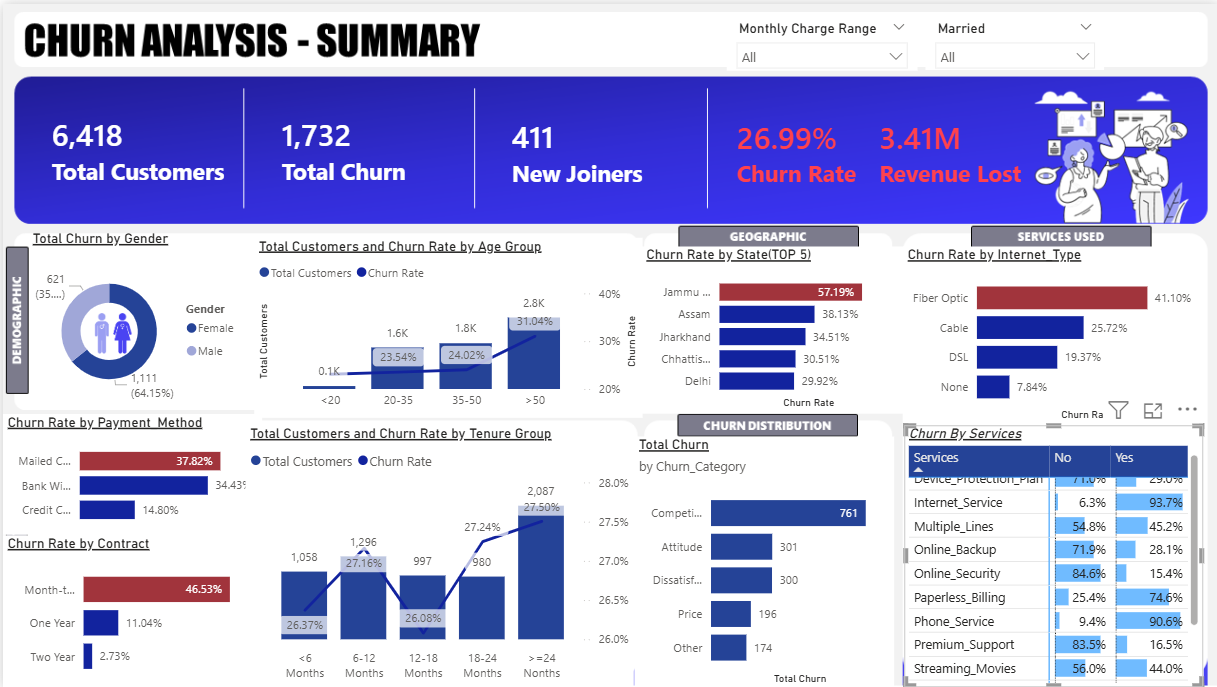

The page's visual inventory and layout, read from the dashboard file:
{"tool":"powerbi","page":{"name":"Summary","canvas":[1280,720],"ordinal":0},"visuals":[{"type":"image","box":[88,249.1,55.8,194.6],"z":0},{"type":"cardVisual","fields":{"Data":["tbl_Measures.Total Customers"]},"box":[21.8,77.6,242.2,152.4],"z":1000},{"type":"cardVisual","fields":{"Data":["tbl_Measures.New Joiners"]},"box":[506.6,80.3,236.8,150],"z":2000},{"type":"cardVisual","fields":{"Data":["tbl_Measures.Total Churn"]},"box":[263.9,77.6,235.4,152.4],"z":3000},{"type":"cardVisual","fields":{"Data":["tbl_Measures.Churn Rate"]},"box":[743.4,80.3,194.7,151.3],"z":4000},{"type":"donutChart","fields":{"Category":["prod_Churn.Gender"],"Y":["tbl_Measures.Total Churn"]},"box":[25.9,238.7,232.2,196.6],"z":5000},{"type":"lineStackedColumnComboChart","fields":{"Category":["mapping_ageGrp.Age Group"],"Y":["tbl_Measures.Total Customers"],"Y2":["tbl_Measures.Churn Rate"]},"box":[264.2,246.1,409,189.4],"z":6000},{"type":"clusteredBarChart","fields":{"Category":["prod_Churn.Payment_Method"],"Y":["tbl_Measures.Churn Rate"]},"box":[0,431.4,272.9,127.1],"z":7000},{"type":"clusteredBarChart","fields":{"Category":["prod_Churn.Contract"],"Y":["tbl_Measures.Churn Rate"]},"box":[0,558.6,290,161.4],"z":8000},{"type":"lineStackedColumnComboChart","fields":{"Category":["mapping_TenureGrp.Tenure Group"],"Y":["tbl_Measures.Total Customers"],"Y2":["tbl_Measures.Churn Rate"]},"box":[255.8,444,409,276.3],"z":9000},{"type":"clusteredBarChart","title":"Churn Rate by State(TOP 5)","fields":{"Y":["tbl_Measures.Churn Rate"],"Category":["prod_Churn.State"]},"box":[672.9,255.7,275.7,175.7],"z":10000},{"type":"clusteredBarChart","fields":{"Category":["prod_Churn.Churn_Category"],"Y":["tbl_Measures.Total Churn"]},"box":[664.7,454.8,273.9,265.4],"z":11000},{"type":"clusteredBarChart","fields":{"Category":["prod_Churn.Internet_Type"],"Y":["tbl_Measures.Churn Rate"]},"box":[946.9,255.3,314.8,188.4],"z":12000},{"type":"pivotTable","title":"Churn By Services","fields":{"Rows":["prod_services.Services"],"Columns":["prod_services.Status"],"Values":["Sum(prod_services.Churn_status)"]},"box":[948.3,444,314.9,276.3],"z":13000},{"type":"slicer","fields":{"Values":["prod_services.Monthly Charge Status"]},"box":[761.9,11.2,200.6,58.1],"z":14000},{"type":"slicer","fields":{"Values":["prod_services.Married"]},"box":[971.1,11.8,188.2,57.9],"z":15000},{"type":"cardVisual","fields":{"Data":["mapping_TenureGrp.Revenue Lost"]},"box":[893.4,80.3,210.5,151.3],"z":16000}]}

Visuals, with their boxes in screenshot pixels (x1, y1, x2, y2), scaled from the page's 1280x720 canvas onto the 1217x687 screenshot:
image: [84,238,137,423]
cardVisual - tbl_Measures.Total Customers: [21,74,251,219]
cardVisual - tbl_Measures.New Joiners: [482,77,707,220]
cardVisual - tbl_Measures.Total Churn: [251,74,475,219]
cardVisual - tbl_Measures.Churn Rate: [707,77,892,221]
donutChart - prod_Churn.Gender x tbl_Measures.Total Churn: [25,228,245,415]
lineStackedColumnComboChart - mapping_ageGrp.Age Group x tbl_Measures.Total Customers: [251,235,640,416]
clusteredBarChart - prod_Churn.Payment_Method x tbl_Measures.Churn Rate: [0,412,259,533]
clusteredBarChart - prod_Churn.Contract x tbl_Measures.Churn Rate: [0,533,276,686]
lineStackedColumnComboChart - mapping_TenureGrp.Tenure Group x tbl_Measures.Total Customers: [243,424,632,686]
"Churn Rate by State(TOP 5)" clusteredBarChart: [640,244,902,412]
clusteredBarChart - prod_Churn.Churn_Category x tbl_Measures.Total Churn: [632,434,892,686]
clusteredBarChart - prod_Churn.Internet_Type x tbl_Measures.Churn Rate: [900,244,1200,423]
"Churn By Services" pivotTable: [902,424,1201,686]
slicer - prod_services.Monthly Charge Status: [724,11,915,66]
slicer - prod_services.Married: [923,11,1102,67]
cardVisual - mapping_TenureGrp.Revenue Lost: [849,77,1050,221]
